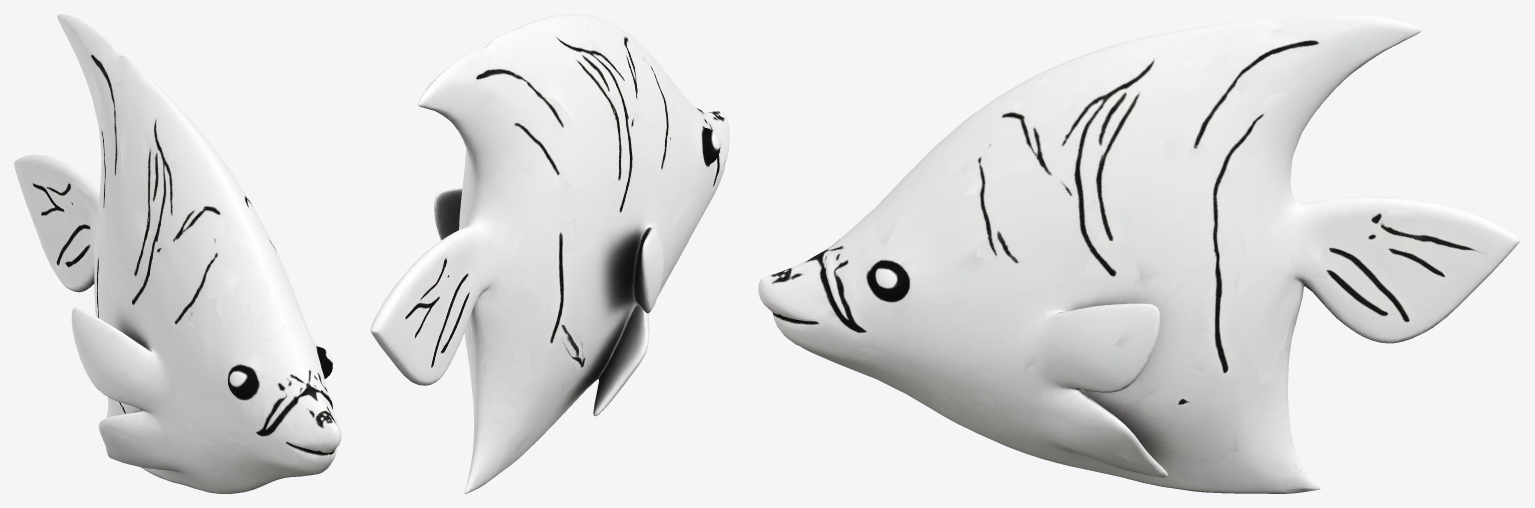
The model's file is angel.glb.
3 renders of one model, left to right at view 1: azimuth 30°, elevation 25°; view 2: azimuth 150°, elevation 25°; view 3: azimuth 270°, elevation 25°, orthographic. The views are drawn at different scales.
Parts seen in each view (by area): view 1: model; view 2: model; view 3: model.
Boxes of the visible parts, x1,y1,x2,y2 form: model: [14, 14, 341, 493]; model: [370, 14, 729, 493]; model: [758, 14, 1520, 493].
Size of the model in its own units: 0.6607 by 1.31 by 1.89.
Materials: 1 (1 with a texture image).
